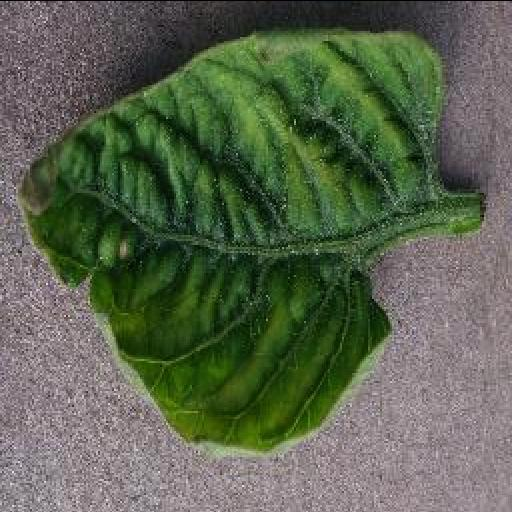disease_tomato: (18, 26, 446, 454)
